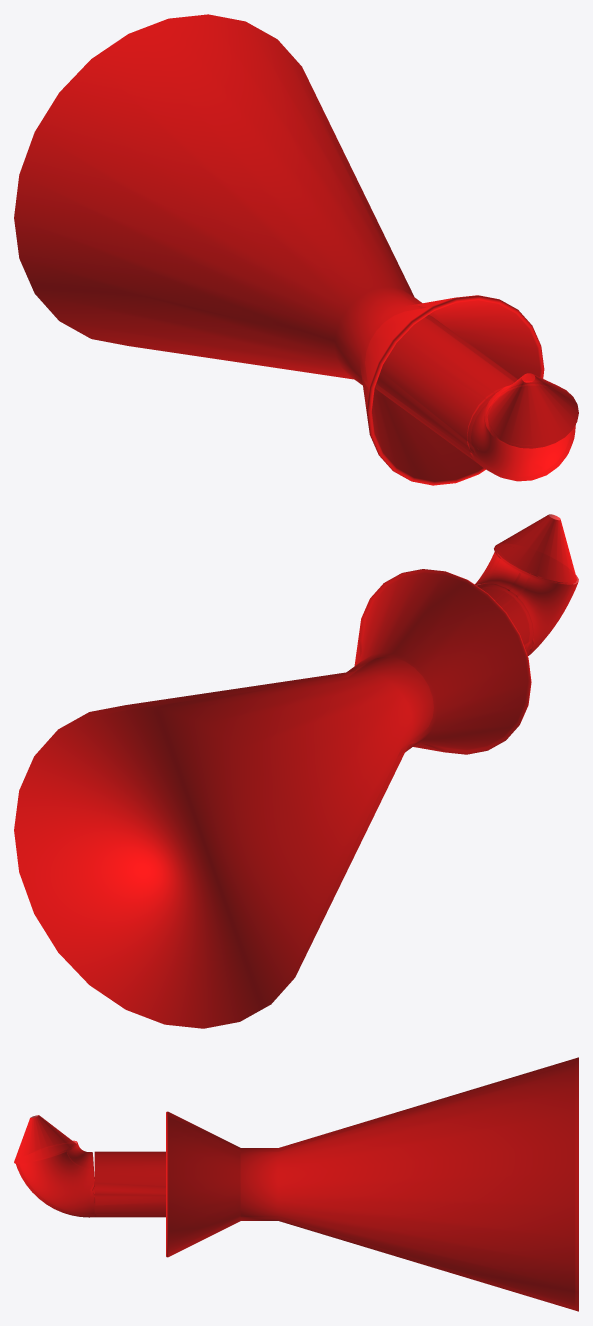
Rendered from model_align.obj.
3 renders of one model, top to bottom at view 1: azimuth 30°, elevation 25°; view 2: azimuth 150°, elevation 25°; view 3: azimuth 270°, elevation 25°, orthographic. The views are drawn at different scales.
Visible parts, largest first — view 1: mesh1_mesh1-geometry, mesh2_mesh2-geometry, mesh9_mesh9-geometry; view 2: mesh1_mesh1-geometry, mesh2_mesh2-geometry, mesh9_mesh9-geometry; view 3: mesh1_mesh1-geometry, mesh2_mesh2-geometry, mesh9_mesh9-geometry.
Boxes of the visible parts, box(x1,y1,x2,y2) form: mesh1_mesh1-geometry: box(14, 14, 575, 485); mesh2_mesh2-geometry: box(377, 318, 569, 476); mesh9_mesh9-geometry: box(487, 373, 578, 448); mesh1_mesh1-geometry: box(14, 551, 578, 1028); mesh2_mesh2-geometry: box(479, 553, 572, 650); mesh9_mesh9-geometry: box(494, 514, 576, 584); mesh1_mesh1-geometry: box(16, 1057, 578, 1311); mesh2_mesh2-geometry: box(20, 1142, 165, 1213); mesh9_mesh9-geometry: box(14, 1115, 76, 1163).
Bounding box in the file's own units: 0.0967 × 0.0967 × 0.214.
